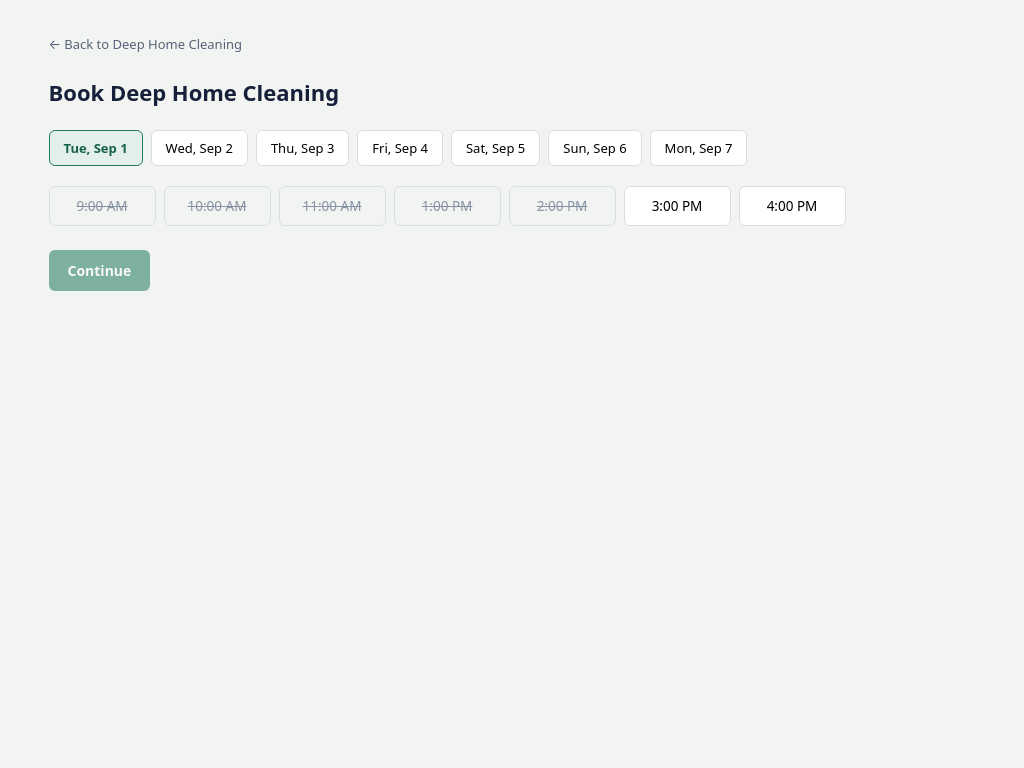
Test case: BookingPage › shows field-level validation errors when submitting an empty customer form
Click the button "3:00 PM". click: (677, 206)
box: [624,186,730,226]
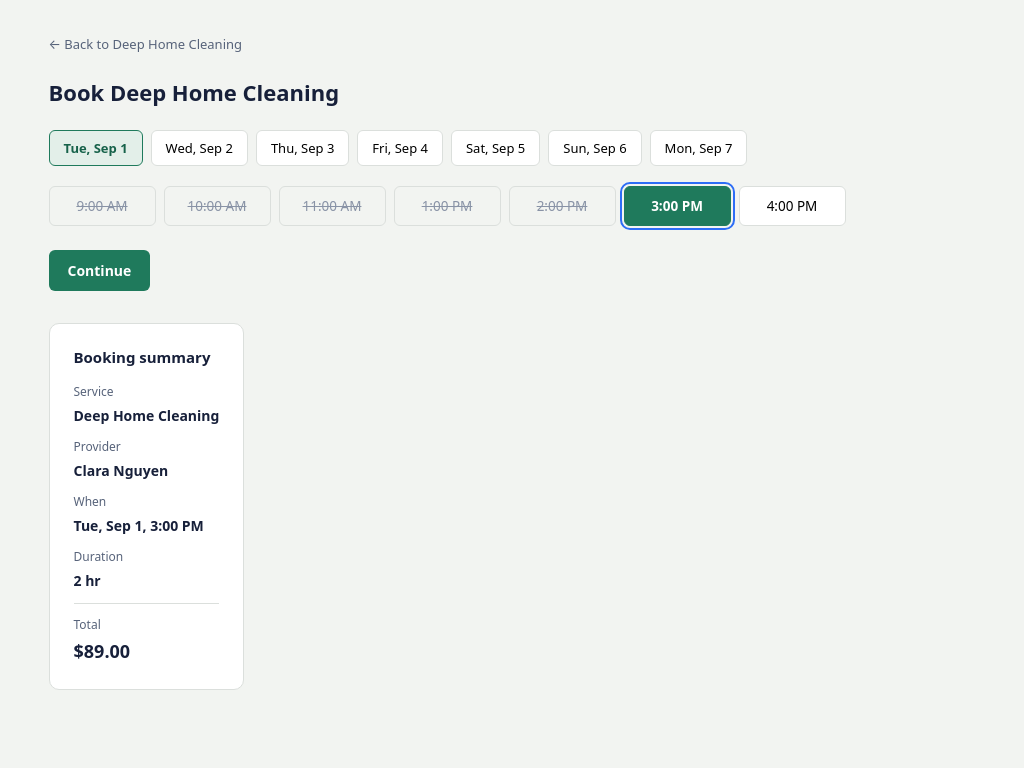
Click the button "Continue". click: (99, 270)
box: [48,250,150,291]
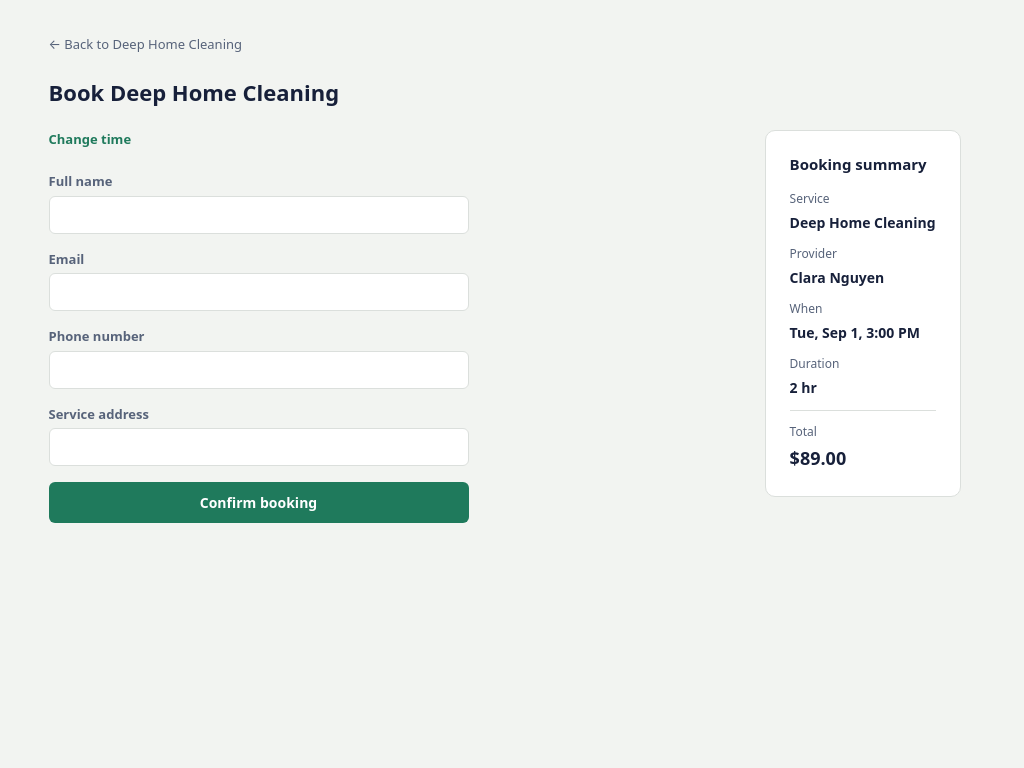
Click the button "Confirm booking". click: (258, 502)
box: [48,482,468,523]
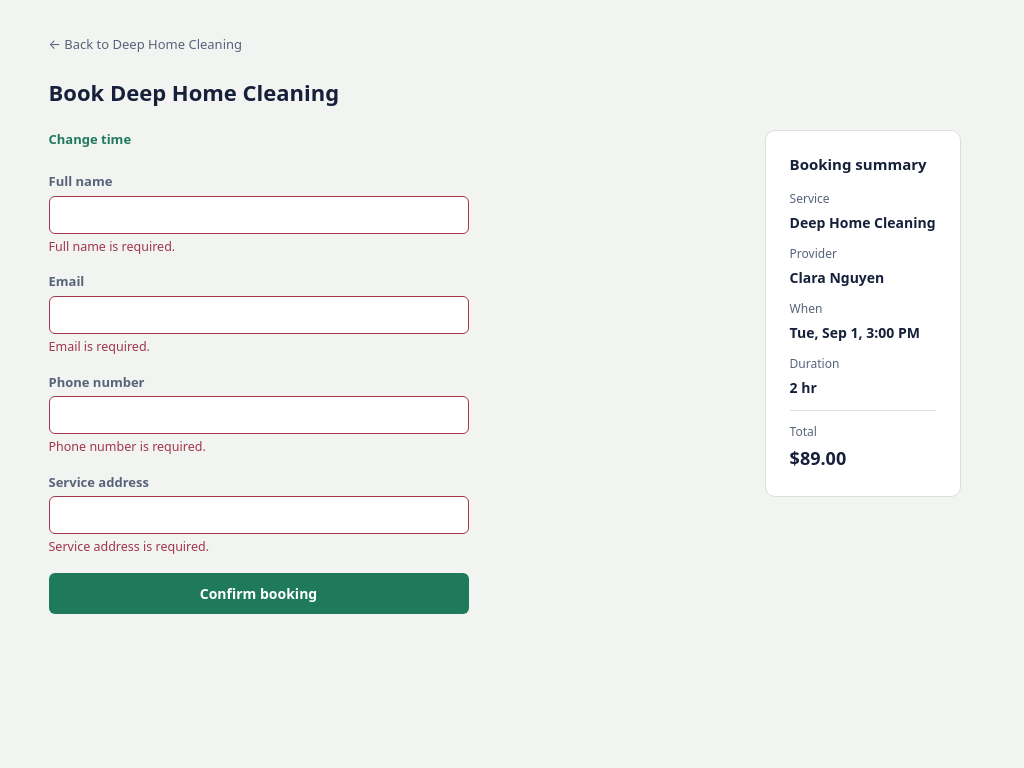
expect the text "Full name is required." is shown: met, box [48,238,175,254]
expect the text "Email is required." is shown: met, box [48,338,150,355]
